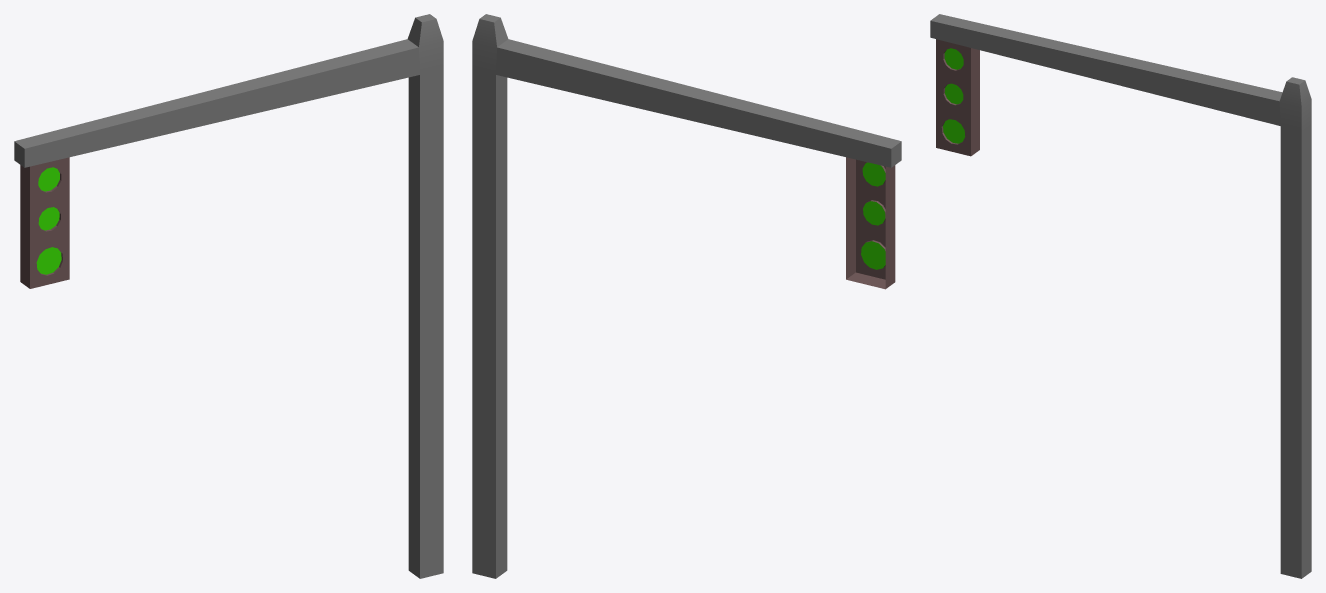
File: TrafficLight.fbx
The picture shows the model from 3 angles, left to right: view 1: azimuth 30°, elevation 25°; view 2: azimuth 150°, elevation 25°; view 3: azimuth 330°, elevation 25°; orthographic projection. The views are drawn at different scales.
Visible parts, largest first — view 1: TrafficLight; view 2: TrafficLight; view 3: TrafficLight.
Boxes of the visible parts, x1=… form: TrafficLight: x1=14, y1=14, x2=443, y2=578; TrafficLight: x1=472, y1=14, x2=901, y2=578; TrafficLight: x1=930, y1=14, x2=1311, y2=578.
Bounding box in the file's own units: 0.0988 × 0.1249 × 0.00463.
